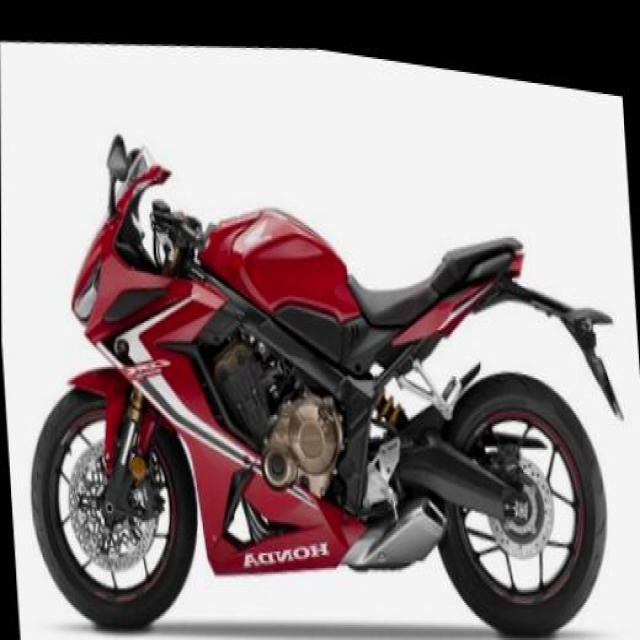CBR650R: (5, 52, 639, 638)
